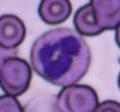N: (31, 27, 90, 86)
